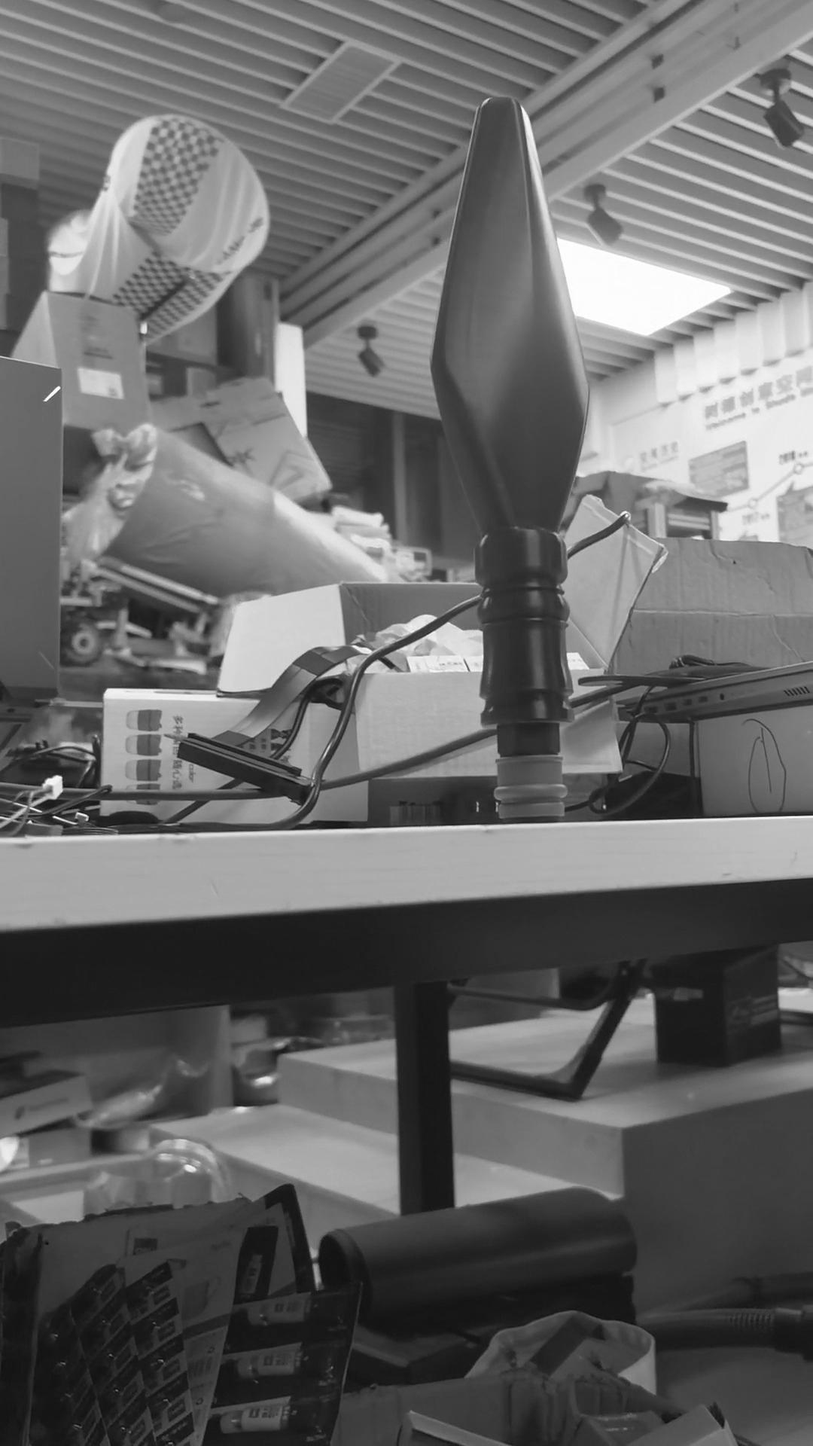base: (487, 741, 571, 834)
